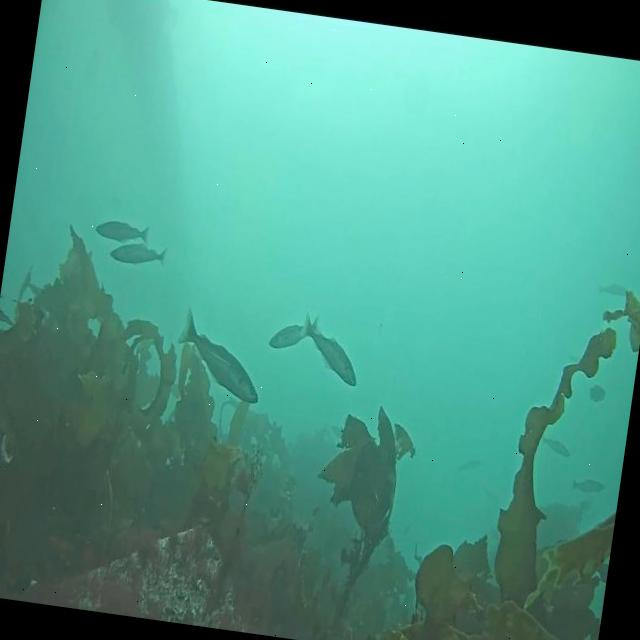fish: (177, 313, 269, 403), (302, 323, 362, 385), (110, 238, 170, 270), (94, 216, 152, 248), (270, 321, 310, 357), (540, 434, 572, 459), (572, 476, 606, 496), (456, 455, 482, 478), (598, 280, 629, 298)
